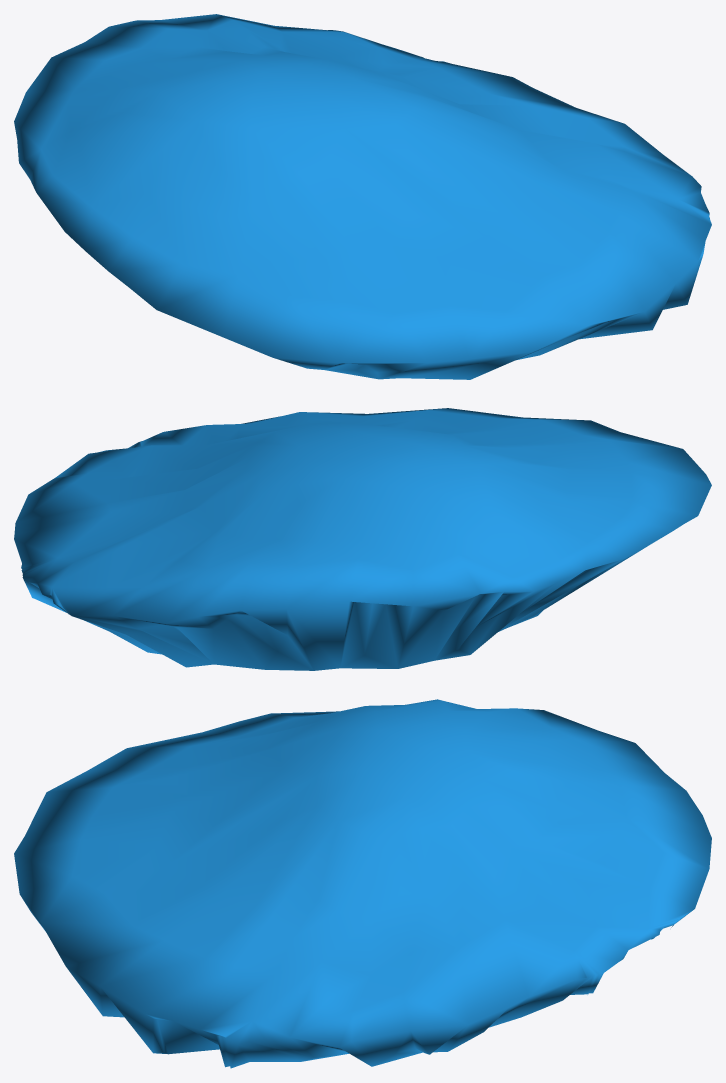
The model's file is SM_flat_mushroom_01.fbx.
3 renders of one model, top to bottom at view 1: azimuth 30°, elevation 25°; view 2: azimuth 150°, elevation 25°; view 3: azimuth 270°, elevation 25°, orthographic. The views are drawn at different scales.
Parts seen in each view (by area): view 1: flat_mushroom_01; view 2: flat_mushroom_01; view 3: flat_mushroom_01.
Boxes of the visible parts, x1,y1,x2,y2 form: flat_mushroom_01: [14, 14, 711, 379]; flat_mushroom_01: [14, 408, 711, 670]; flat_mushroom_01: [14, 699, 711, 1068].
Size of the model in its own units: 445 by 164 by 480.
